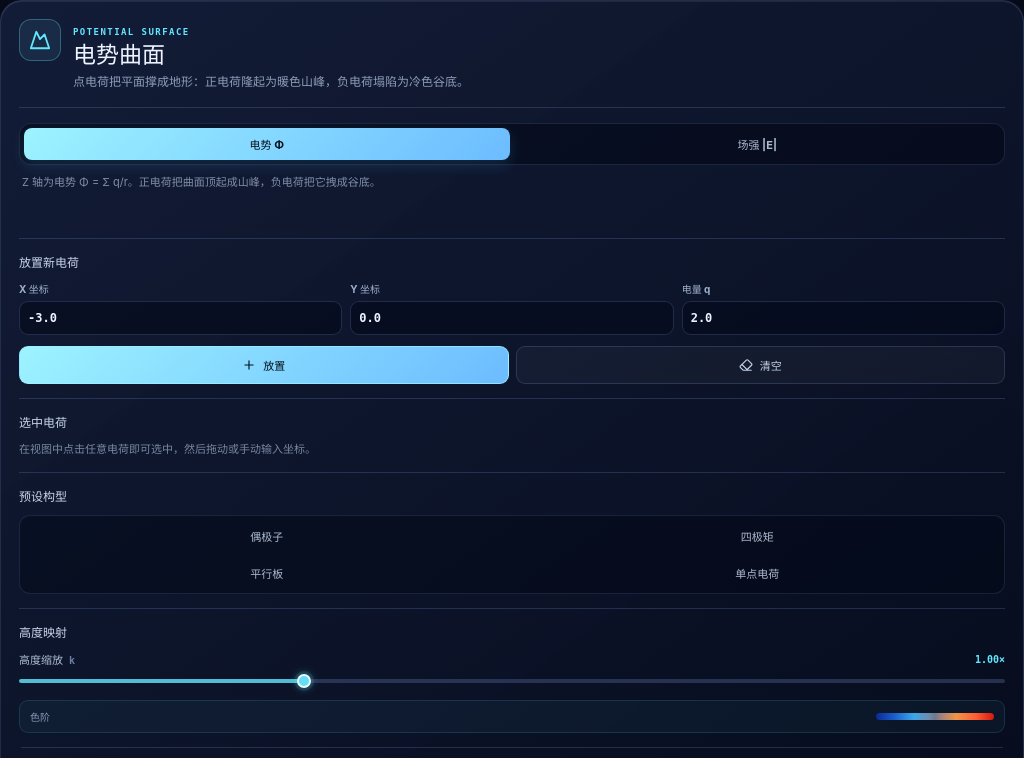
PotentialFieldLab › places a charge from the coordinate inputs and selects it
Replace the text in the number field labelled "X 坐标" with "1.5" at [181, 318], box left=19, top=301, right=342, bottom=335
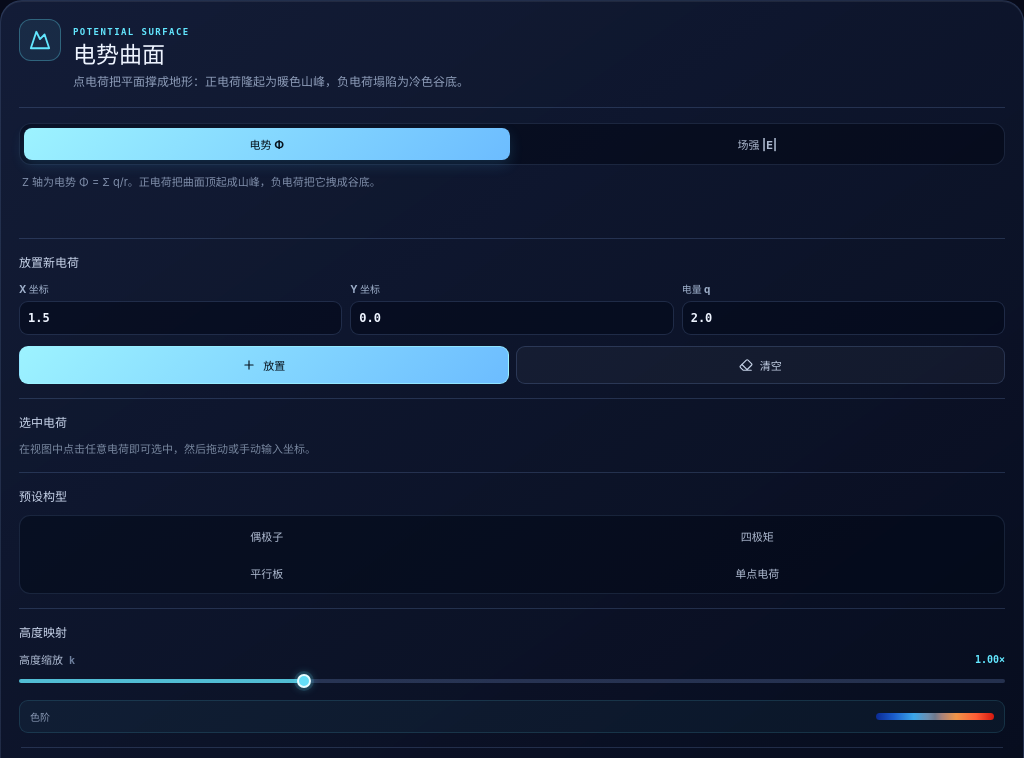
Replace the text in the number field labelled "Y 坐标" with "-2" at [512, 318], box left=350, top=301, right=674, bottom=335
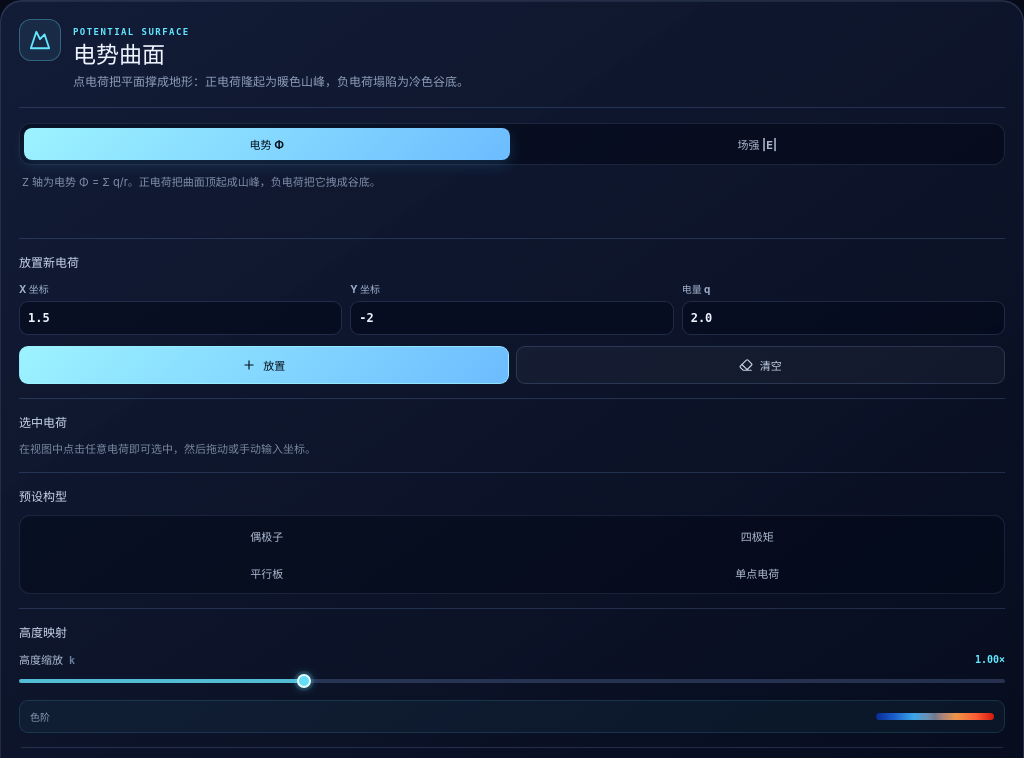
Replace the text in the number field labelled "电量 q" with "3" at [843, 318], box left=682, top=301, right=1005, bottom=335
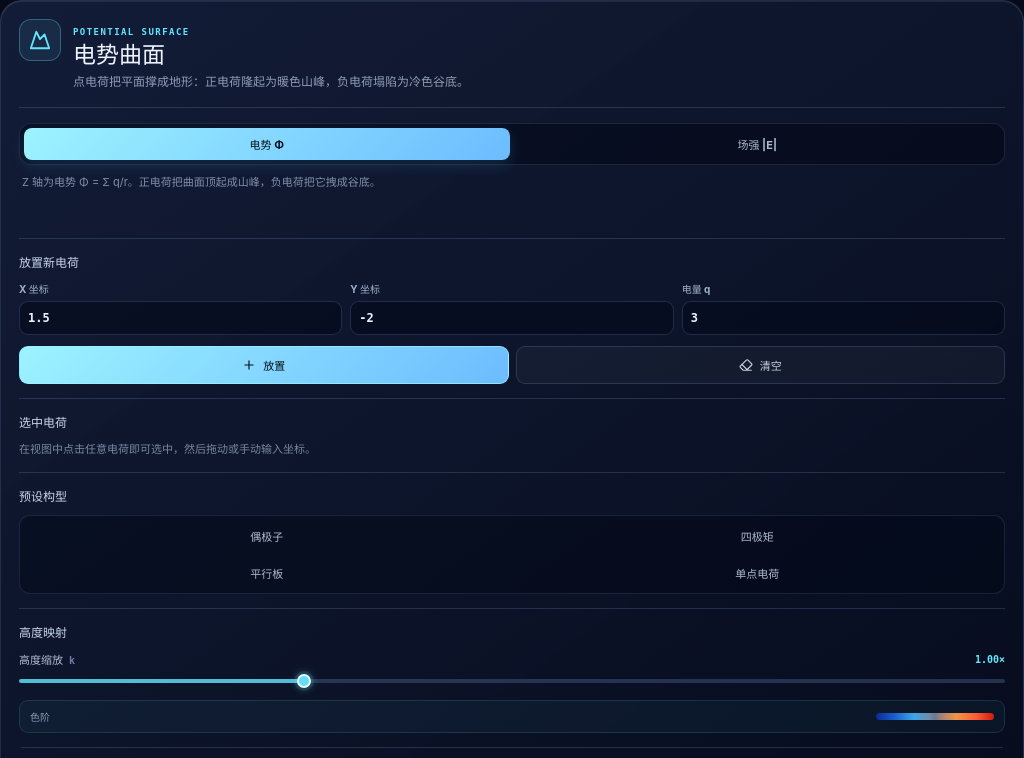
Click the button "放置" at [264, 365], box left=19, top=346, right=508, bottom=384
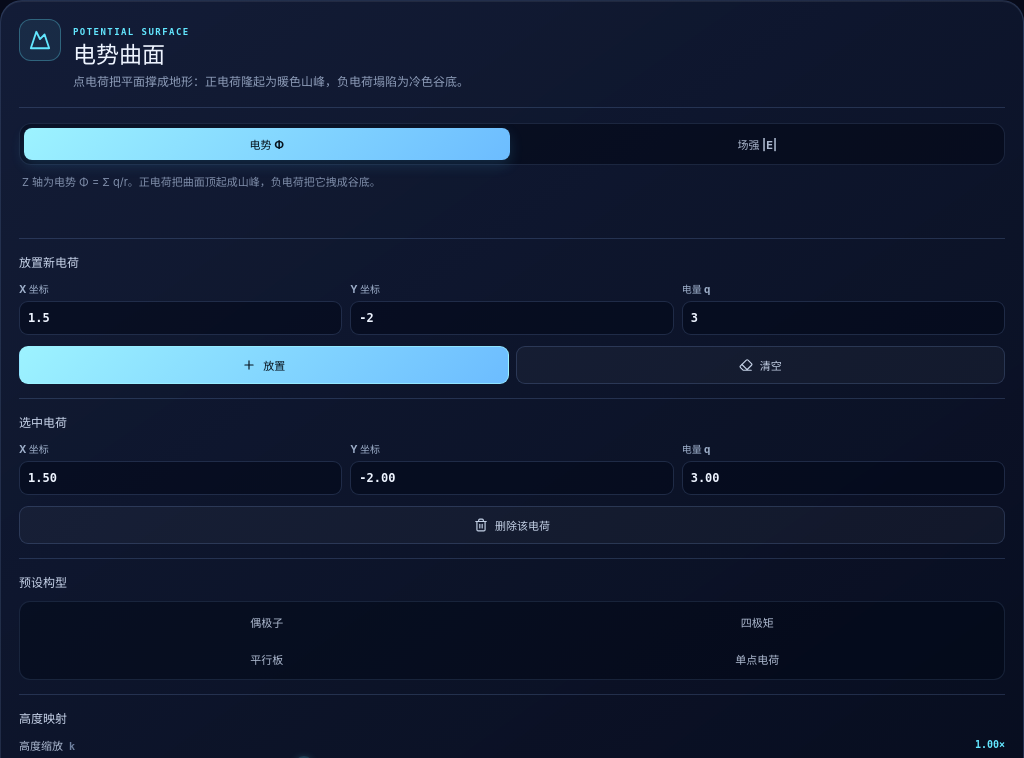
Now the button "删除该电荷" is shown, box left=19, top=506, right=1005, bottom=544
Now the number field labelled "X 坐标" below "选中电荷" holds "1.5", box left=19, top=461, right=342, bottom=495
